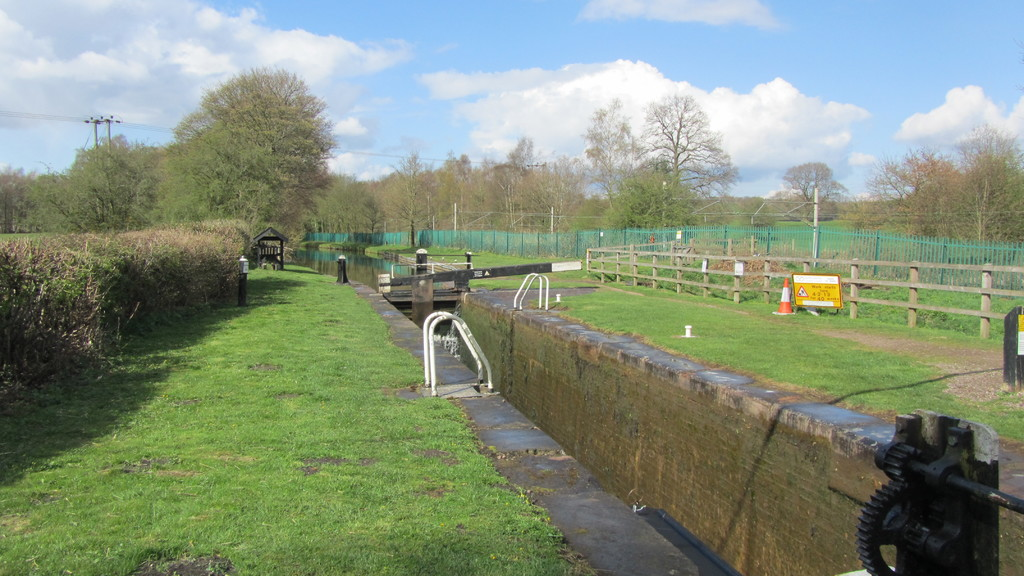Tree: (0, 60, 1023, 261)
